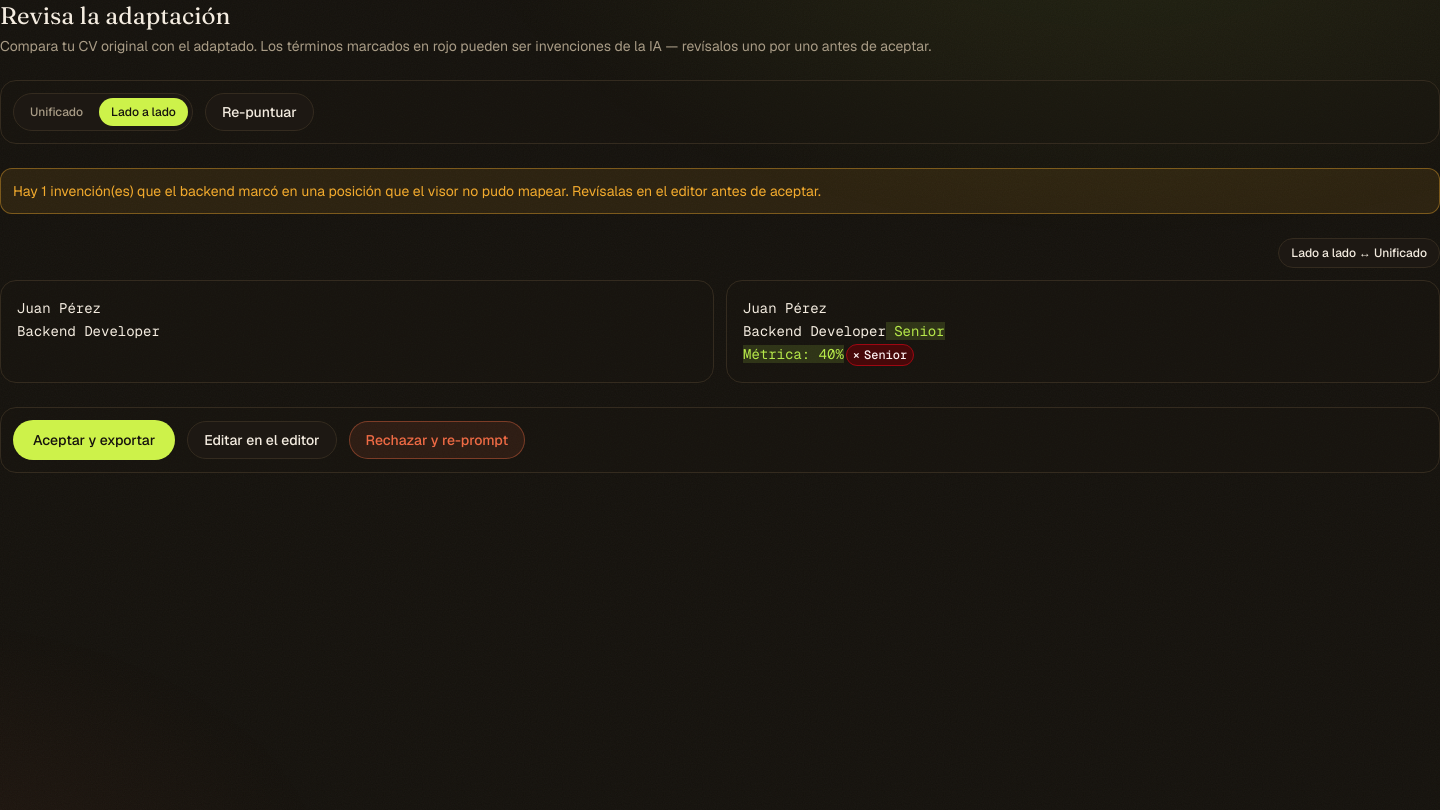
Scenario: DiffPage › edición con valor inválido (Zod fail) → cancela (no actualiza texto)
Check: the element named "diff" is shown, box x1=0 y1=238 x2=1439 y2=382
Click the button "× Senior" at {"x": 880, "y": 354}, box x1=846 y1=344 x2=914 y2=366
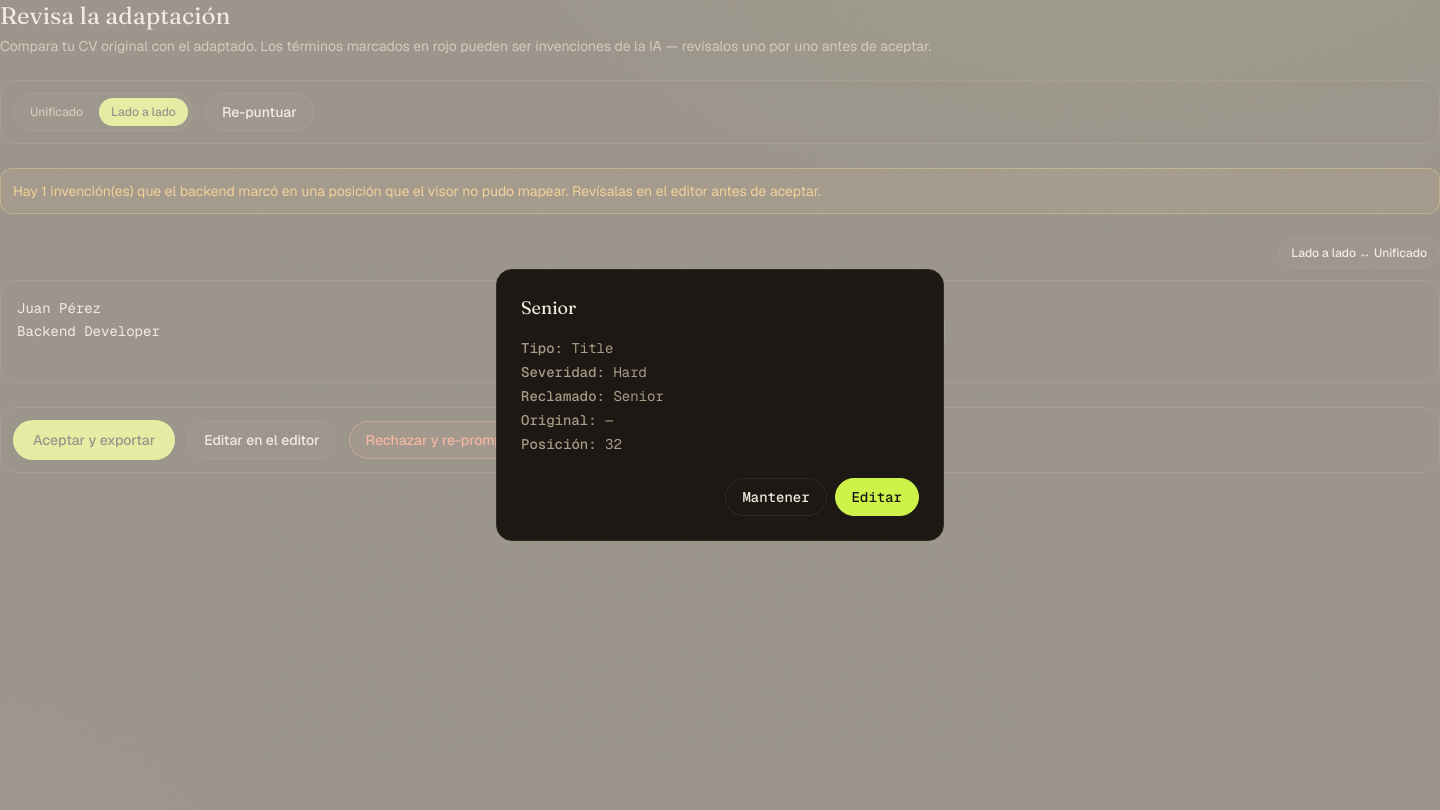
Check: the button "Editar" is shown
Click the button "Editar" at {"x": 877, "y": 497}, box x1=835 y1=478 x2=919 y2=516
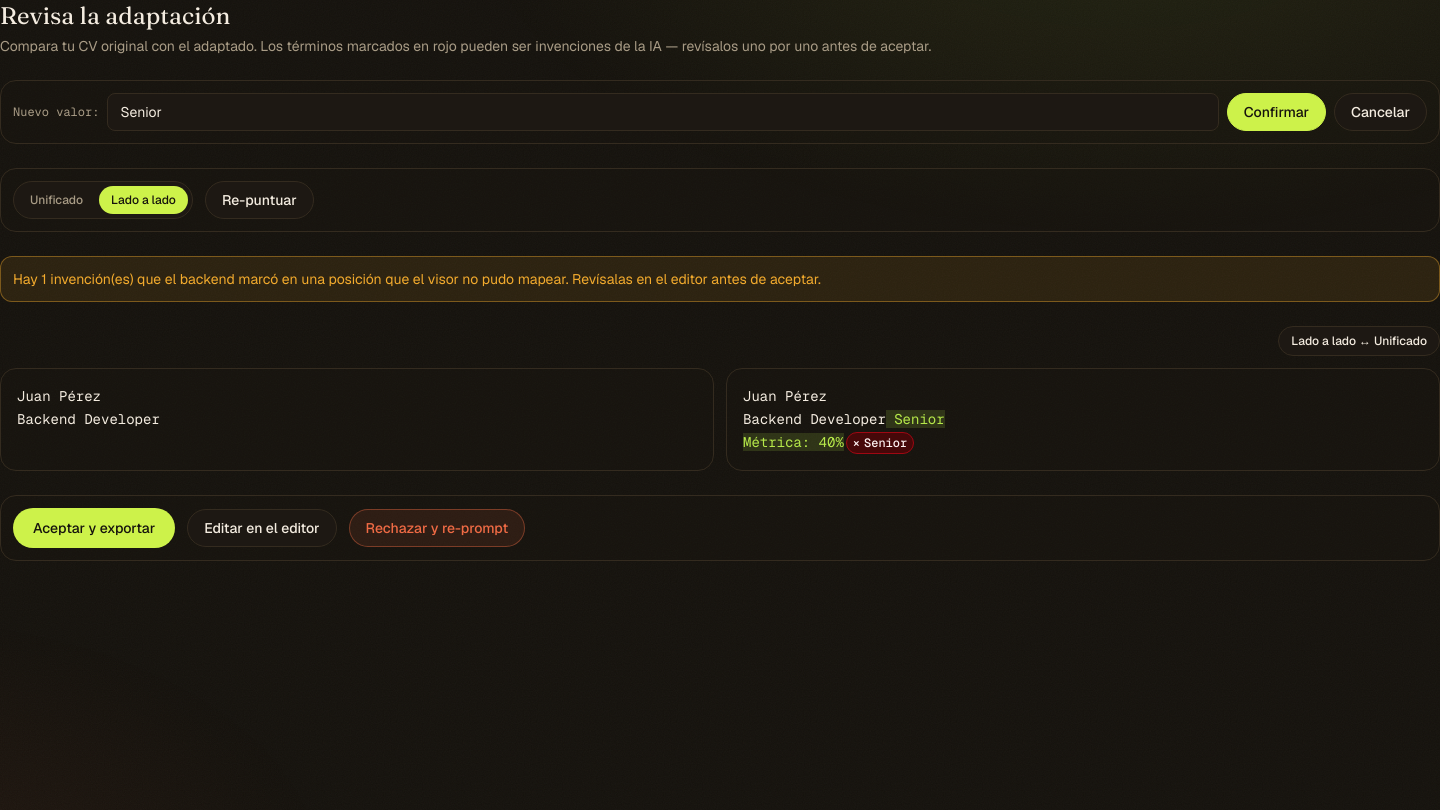
Vacía el input → Zod debería fallar (min length 1)
Clear the field at {"x": 663, "y": 112}, box x1=107 y1=93 x2=1219 y2=131
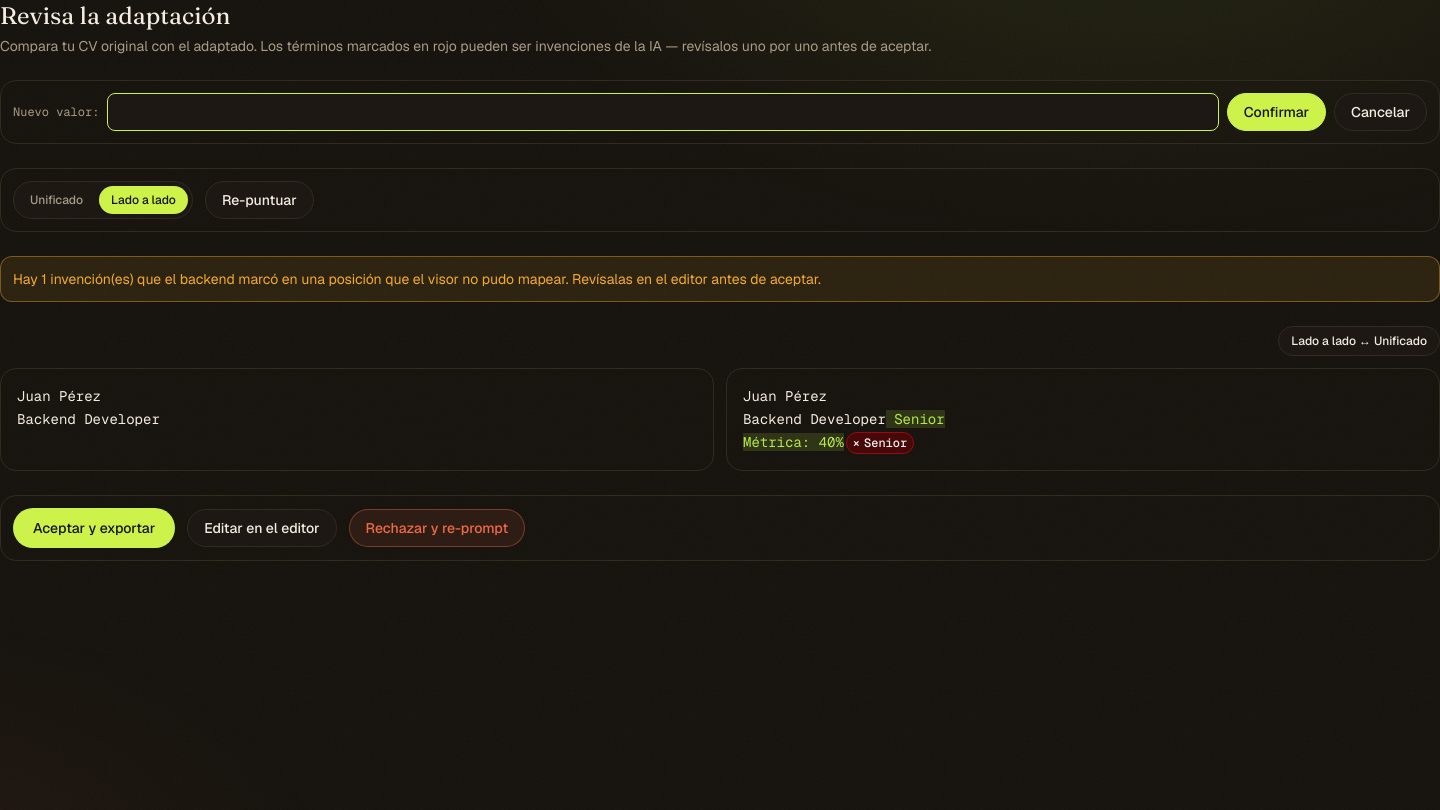
Press Enter
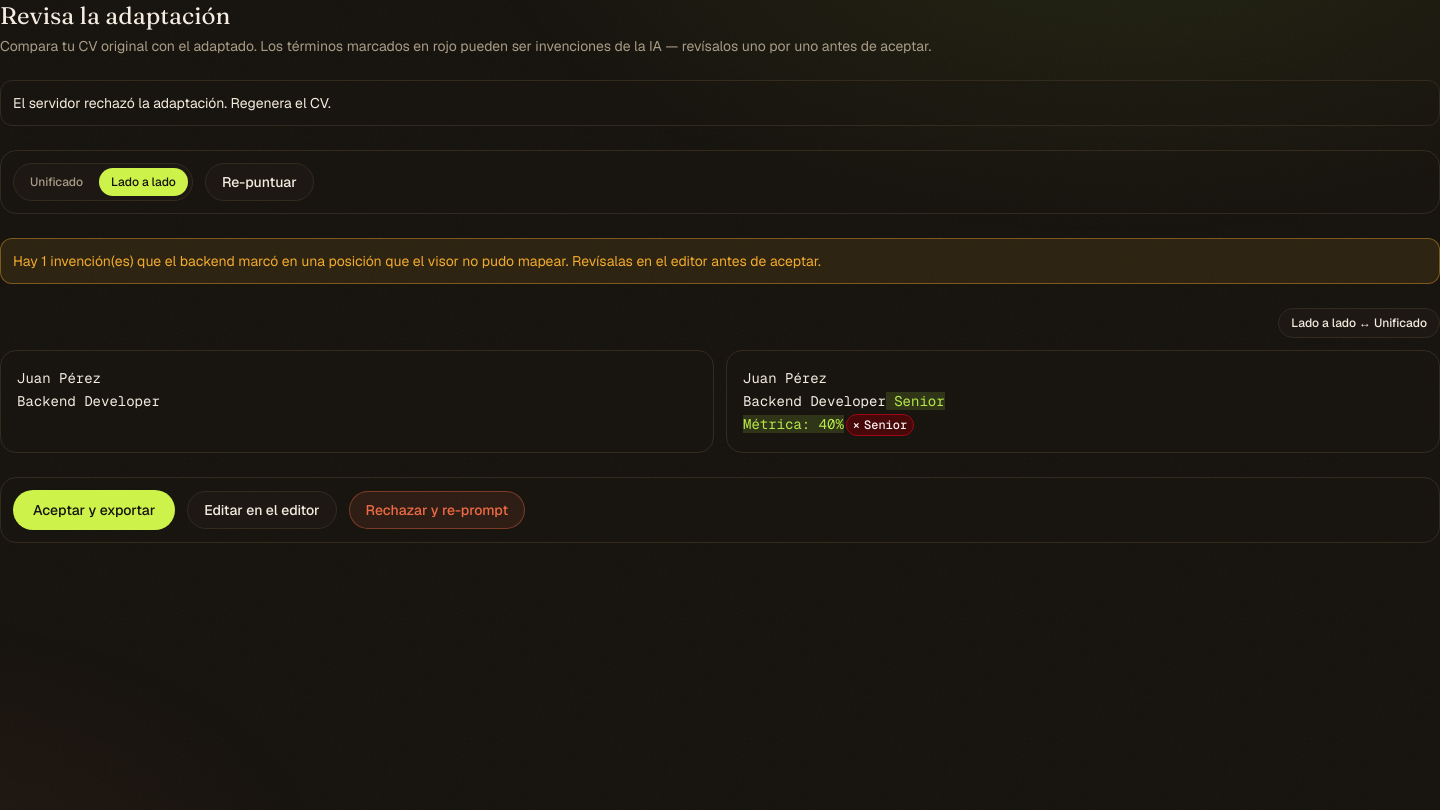
Check: the field is gone
